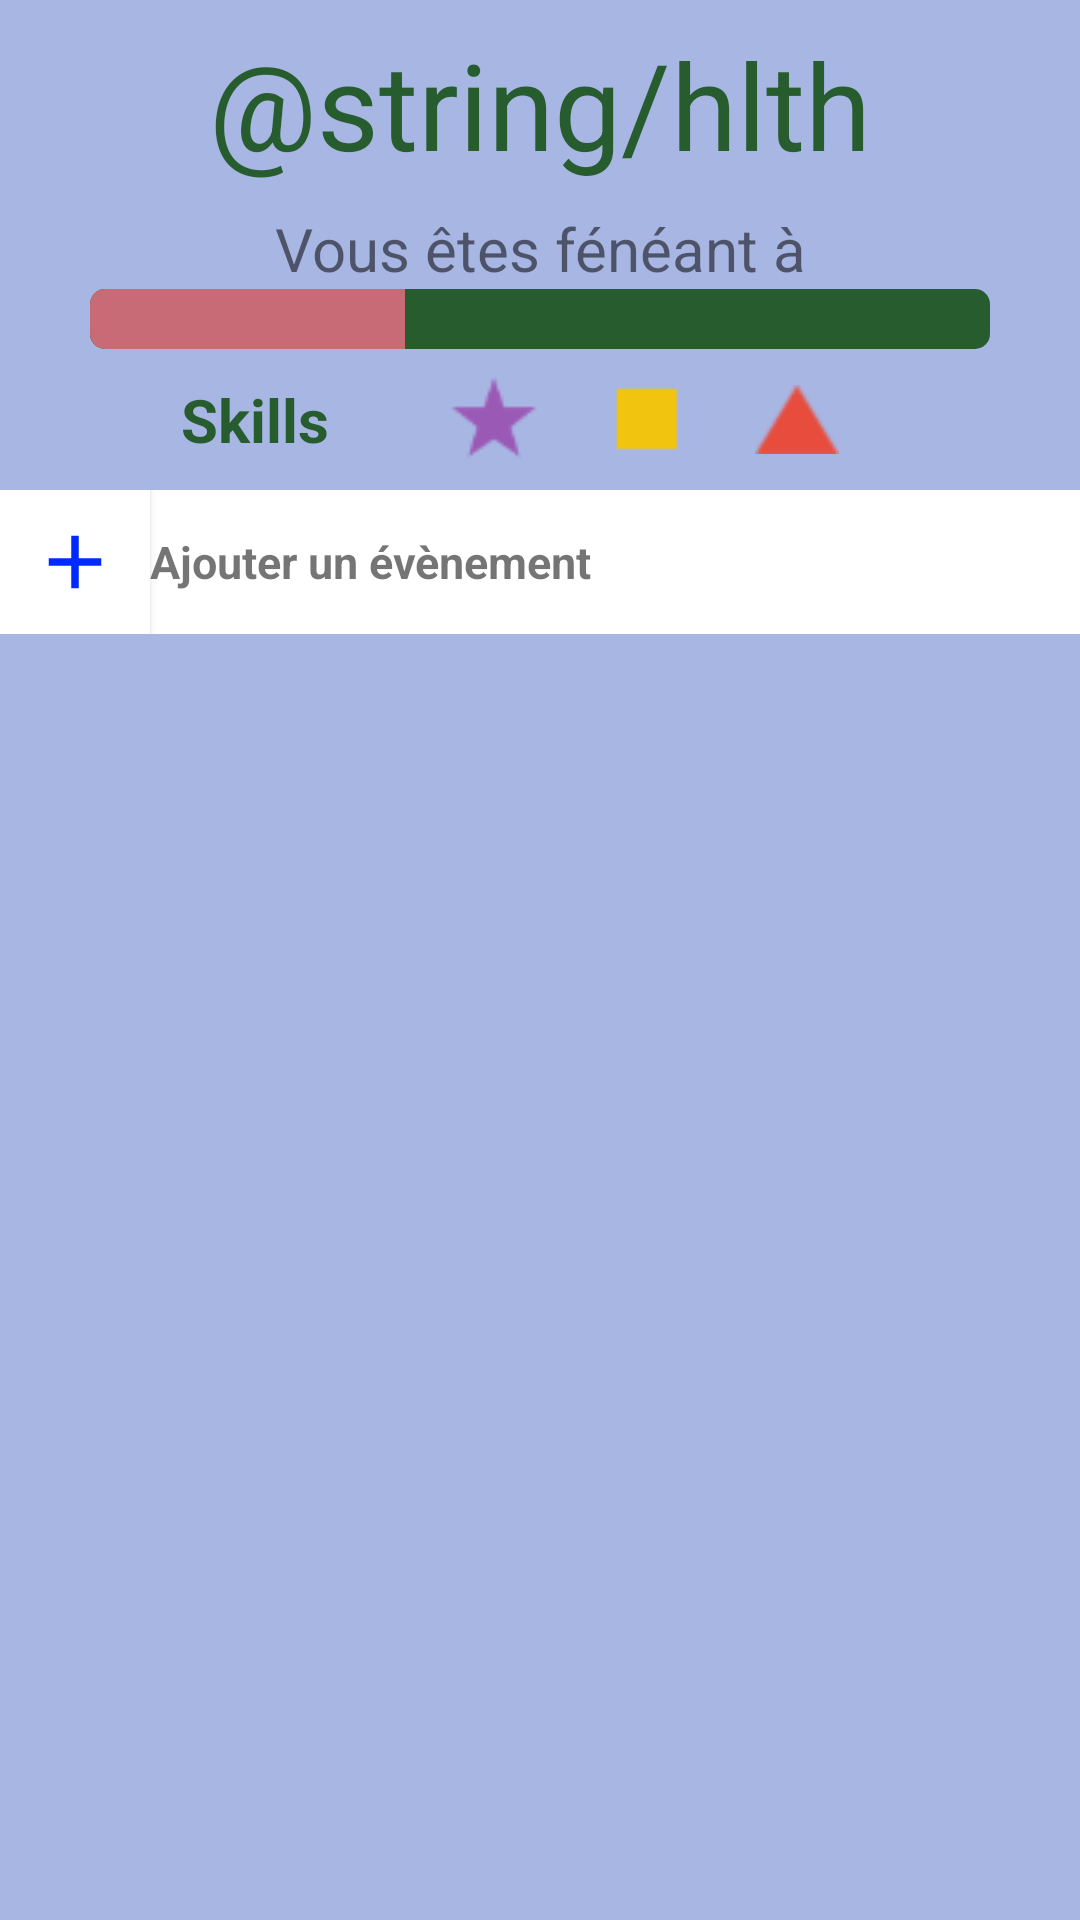

Point at icon controls on the screen. Image size 1080 × 1920, points as point (x, y).
star: point (494, 418)
triangle: point (797, 419)
